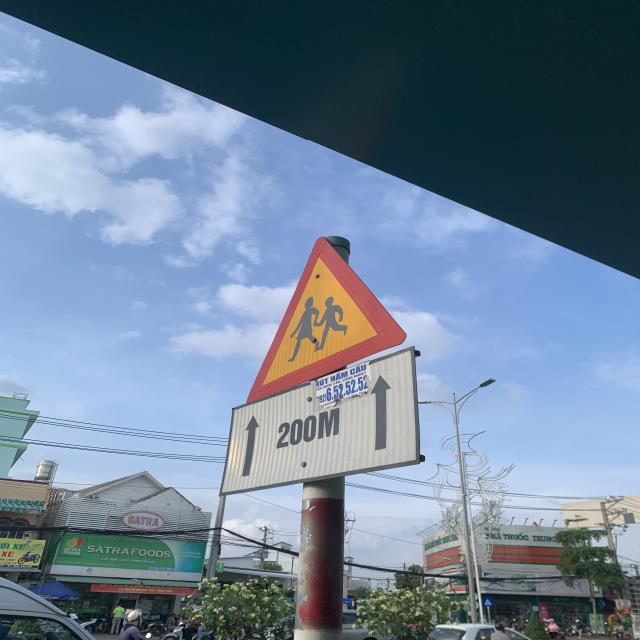Vong_Xuyen: (245, 234, 408, 406)
